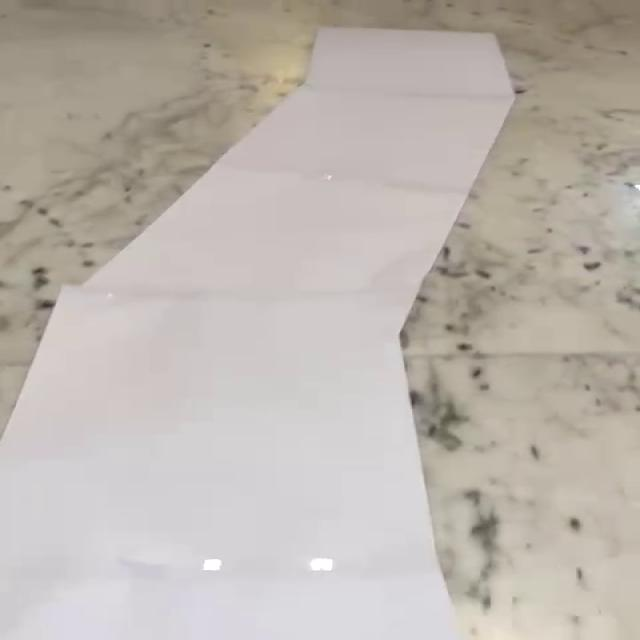road: (3, 28, 512, 640)
